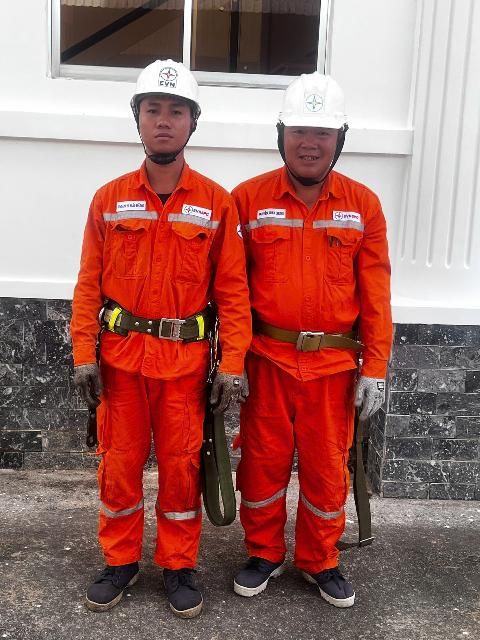gloves: (207, 352, 252, 409), (68, 358, 116, 409), (355, 367, 397, 422)
harness: (253, 307, 378, 366), (98, 288, 218, 348)
helmet: (267, 73, 362, 140), (127, 49, 210, 124)
shoes: (82, 533, 144, 609), (292, 548, 365, 612), (154, 555, 213, 623), (228, 543, 294, 598)
